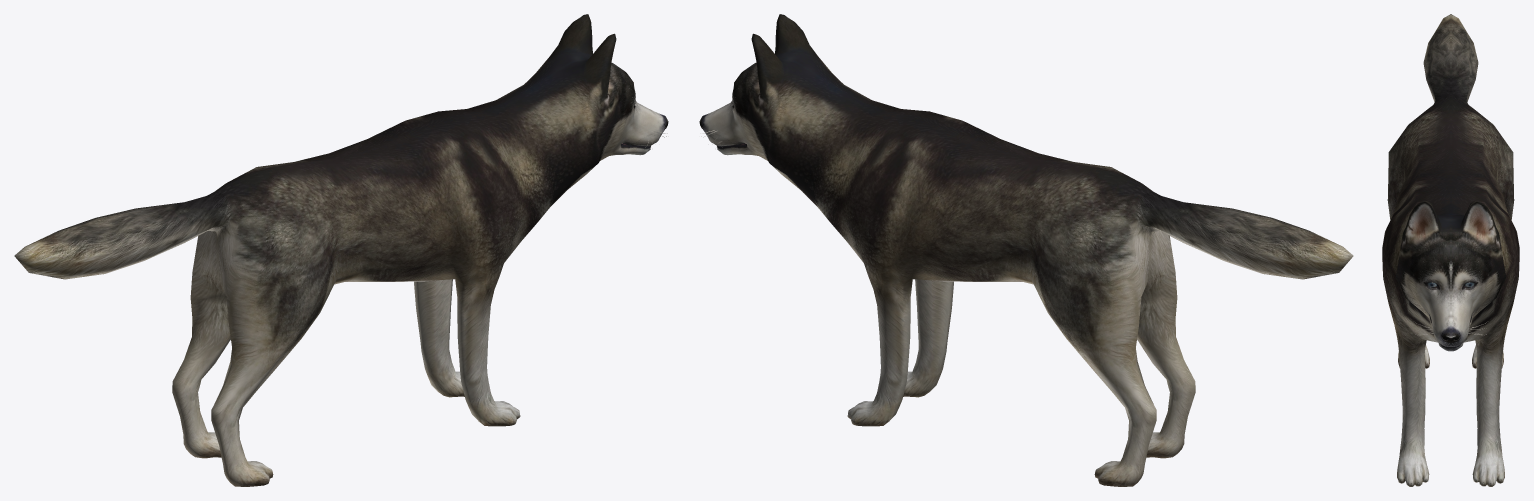
The model's file is dog.dae.
3 renders of one model, left to right at view 1: azimuth 30°, elevation 25°; view 2: azimuth 150°, elevation 25°; view 3: azimuth 270°, elevation 25°, orthographic. The views are drawn at different scales.
Visible parts, largest first — view 1: dog; view 2: dog; view 3: dog.
Boxes of the visible parts, <box> form: dog: <box>14,14,668,486</box>; dog: <box>699,14,1353,486</box>; dog: <box>1382,14,1519,486</box>.
Size of the model in its own units: 5.25 by 1.01 by 2.72.
1 material, 1 textured.
